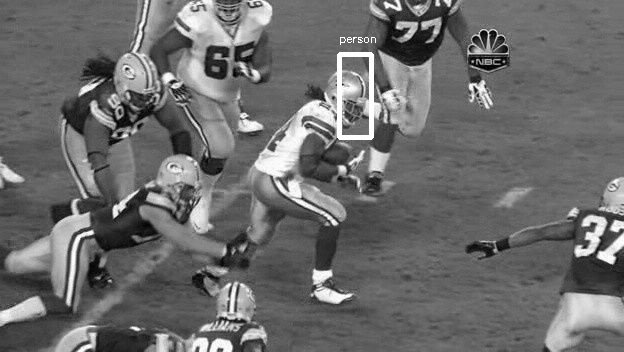person: (327, 73, 363, 122), (326, 73, 362, 122), (328, 73, 364, 122), (327, 72, 363, 121), (327, 74, 363, 123)
target_negative: (475, 22, 587, 338), (436, 171, 572, 284), (14, 293, 622, 311), (488, 202, 529, 344), (559, 86, 589, 198), (525, 265, 616, 275)
